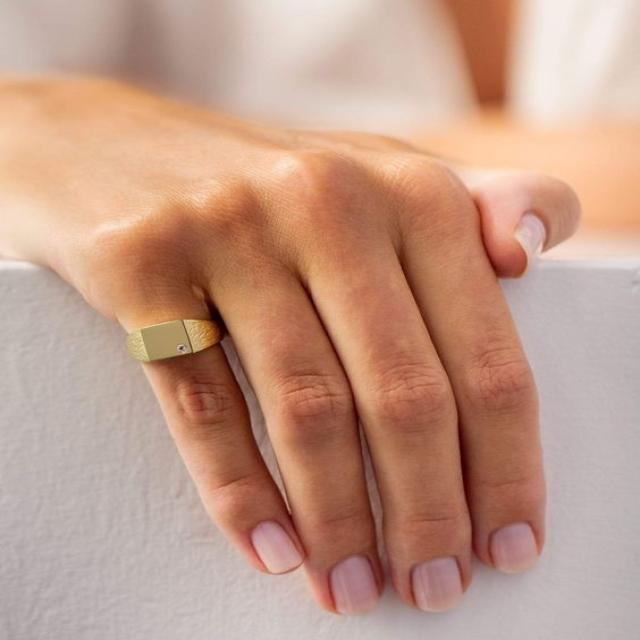Fingernail: (412, 559, 466, 614), (332, 558, 382, 617), (489, 521, 542, 575), (253, 521, 301, 575), (518, 215, 547, 275)
